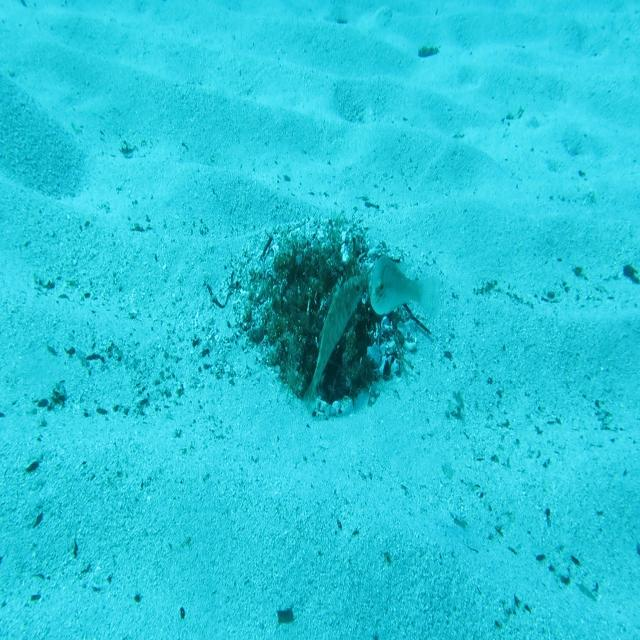LF: (299, 271, 367, 417)
core_nest: (296, 257, 342, 296)
female: (368, 253, 442, 321)
nest: (222, 207, 420, 438)
vegetation: (623, 259, 640, 290), (416, 46, 443, 60), (277, 610, 297, 626)
